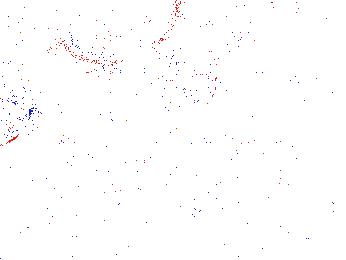moon jellyfish: (56, 1, 182, 64), (155, 1, 245, 58), (166, 29, 218, 118), (1, 1, 70, 64), (1, 96, 33, 150)
